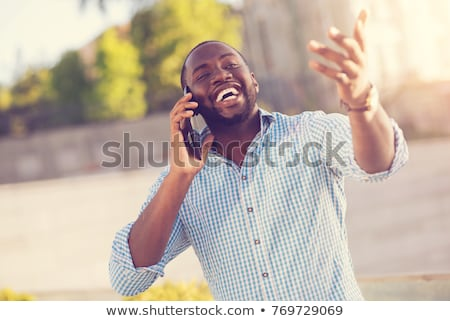phone: (169, 81, 209, 160)
talk: (161, 50, 256, 178)
